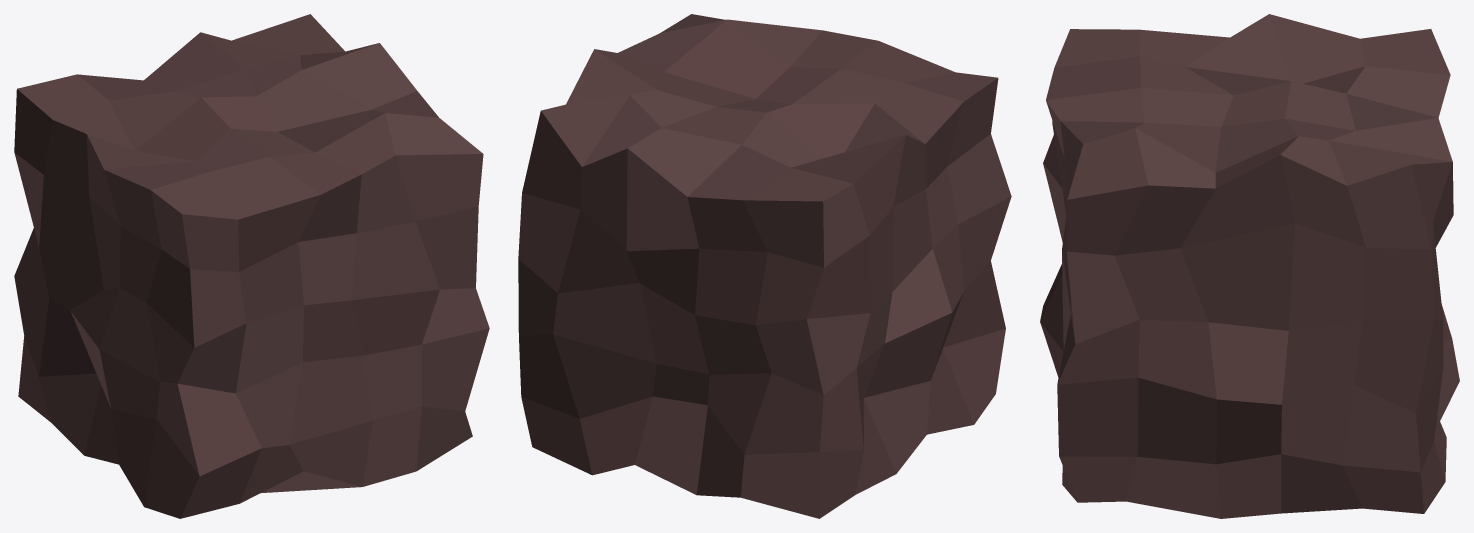
File: lithium-silicate.glb
3 views of the same model, side by side, from view 1: azimuth 30°, elevation 25°; view 2: azimuth 150°, elevation 25°; view 3: azimuth 270°, elevation 25° (orthographic). The views are drawn at different scales.
Parts seen in each view (by area): view 1: lithium-silicate; view 2: lithium-silicate; view 3: lithium-silicate.
Part boxes in pixels (x1=…): lithium-silicate: x1=14, y1=14, x2=489, y2=518; lithium-silicate: x1=518, y1=14, x2=1011, y2=518; lithium-silicate: x1=1040, y1=14, x2=1459, y2=518.
Bounding box in the file's own units: 1.16 × 1.16 × 1.14.
